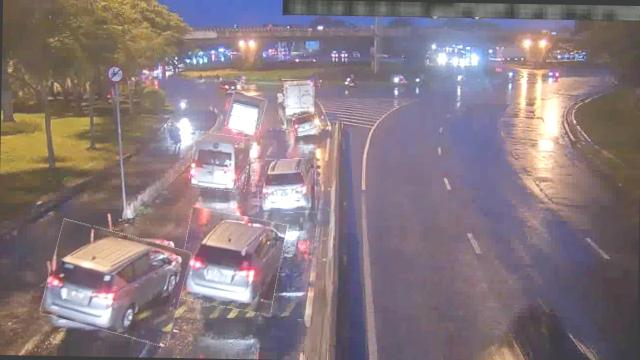Bike: (168, 124, 182, 146)
Bus: (190, 132, 250, 190)
Car: (43, 226, 187, 340), (179, 209, 284, 312), (258, 158, 316, 213), (292, 113, 320, 134)
Truck: (226, 92, 264, 134), (277, 79, 314, 120)
